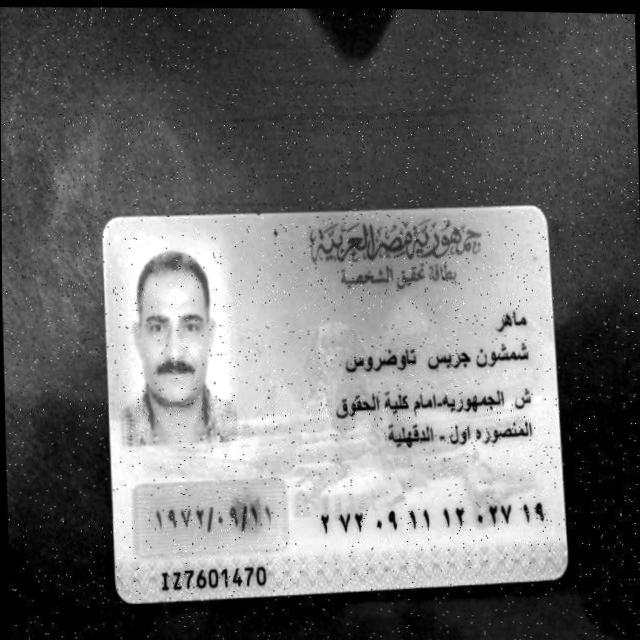id_card: (104, 205, 567, 601)
